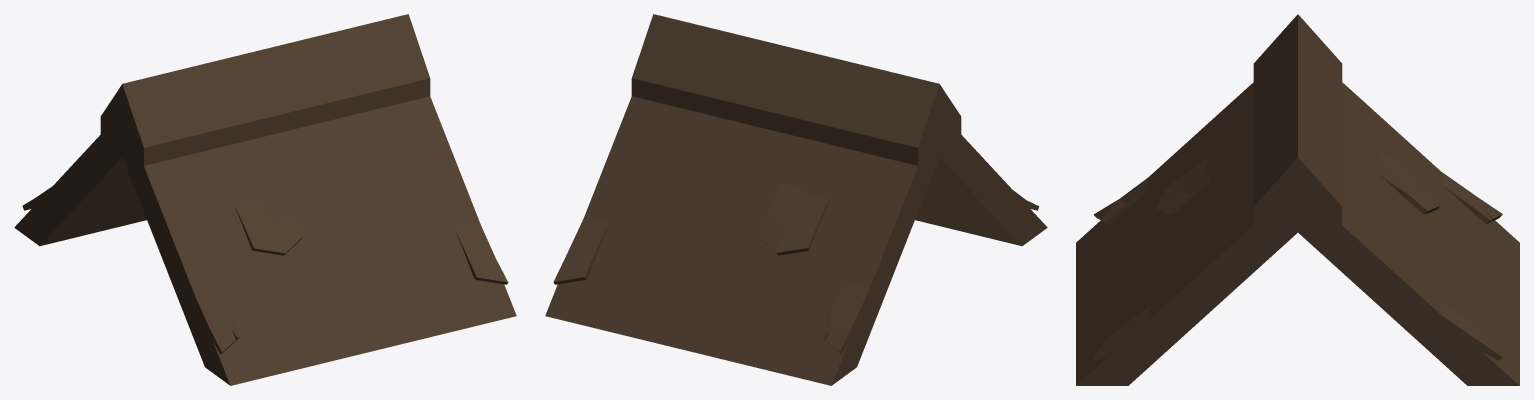
The model's file is roof-wood-center-top-3m.fbx.
The picture shows the model from 3 angles, left to right: view 1: azimuth 30°, elevation 25°; view 2: azimuth 150°, elevation 25°; view 3: azimuth 270°, elevation 25°; orthographic projection. The views are drawn at different scales.
Parts seen in each view (by area): view 1: roof-wood-center-top-3m; view 2: roof-wood-center-top-3m; view 3: roof-wood-center-top-3m.
Part boxes in pixels (x1,y1,x2,y2): roof-wood-center-top-3m: (14, 14, 516, 385); roof-wood-center-top-3m: (545, 14, 1047, 385); roof-wood-center-top-3m: (1076, 14, 1519, 385).
Bounding box in the file's own units: 3 × 2.23 × 3.93.
